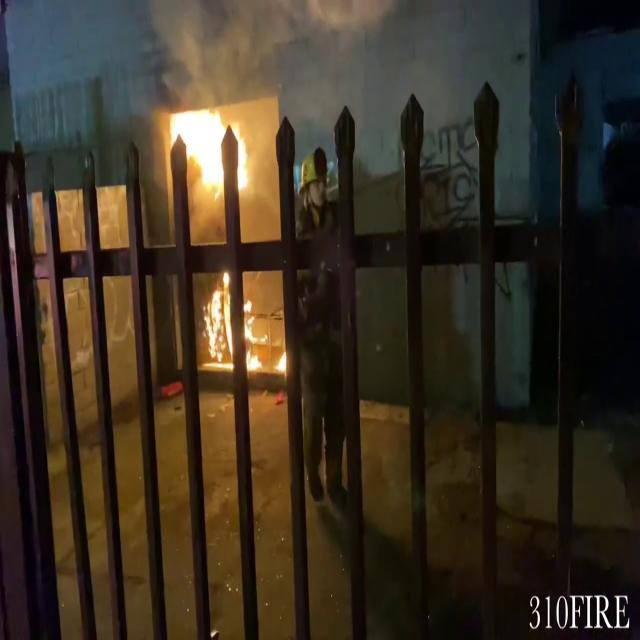Fire: (169, 98, 251, 198), (204, 269, 264, 373)
